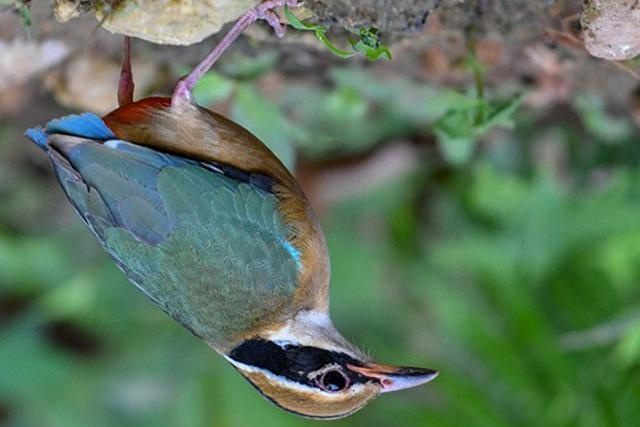pitta: (52, 30, 447, 419)
